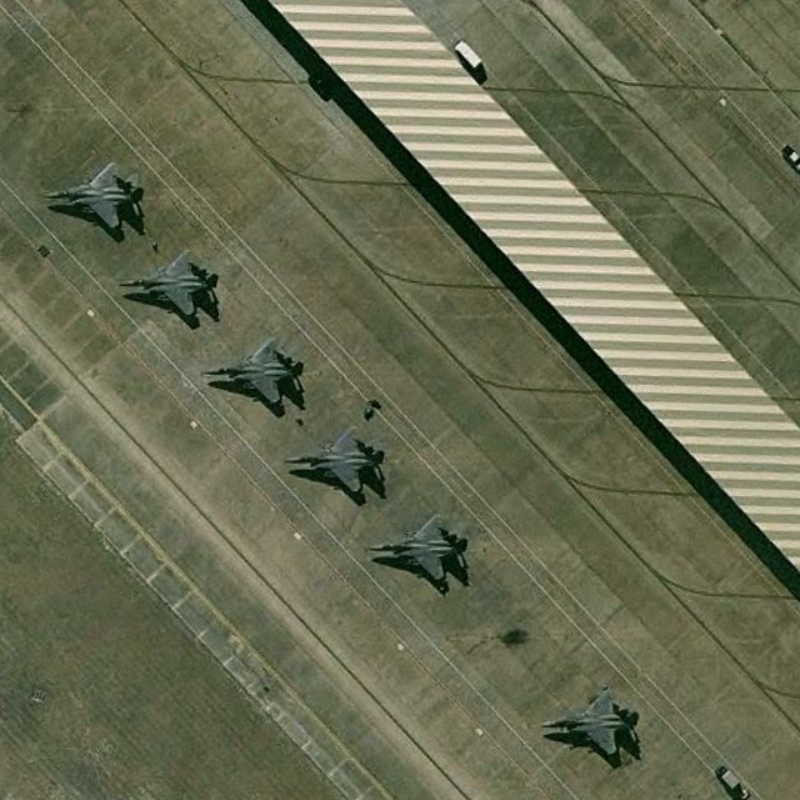A13: (197, 335, 305, 407), (538, 682, 637, 760), (279, 421, 381, 496), (38, 160, 144, 232), (117, 247, 220, 320), (367, 511, 466, 585)
